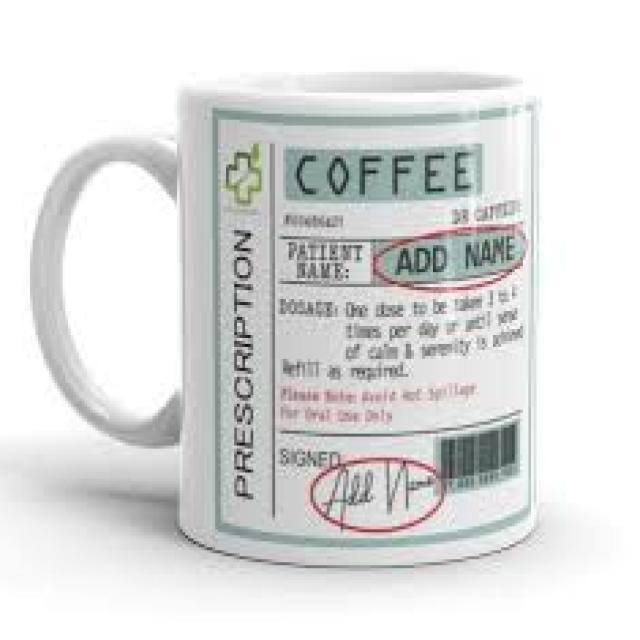taza: (22, 46, 553, 588)
